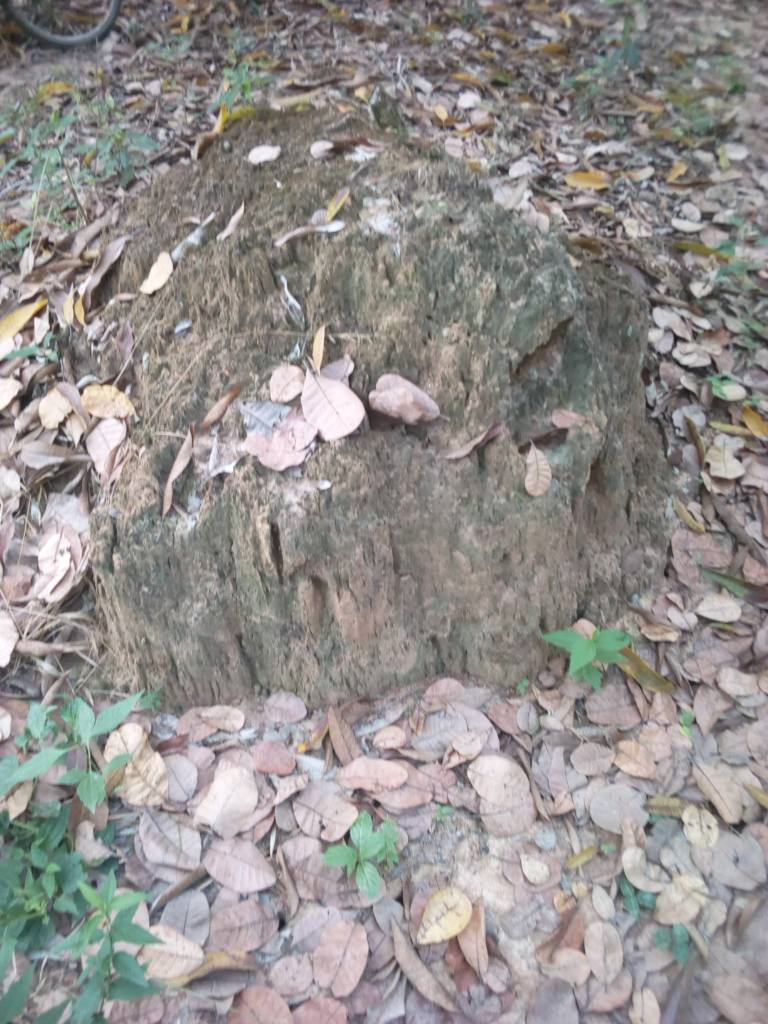Termites: (99, 136, 665, 677)
